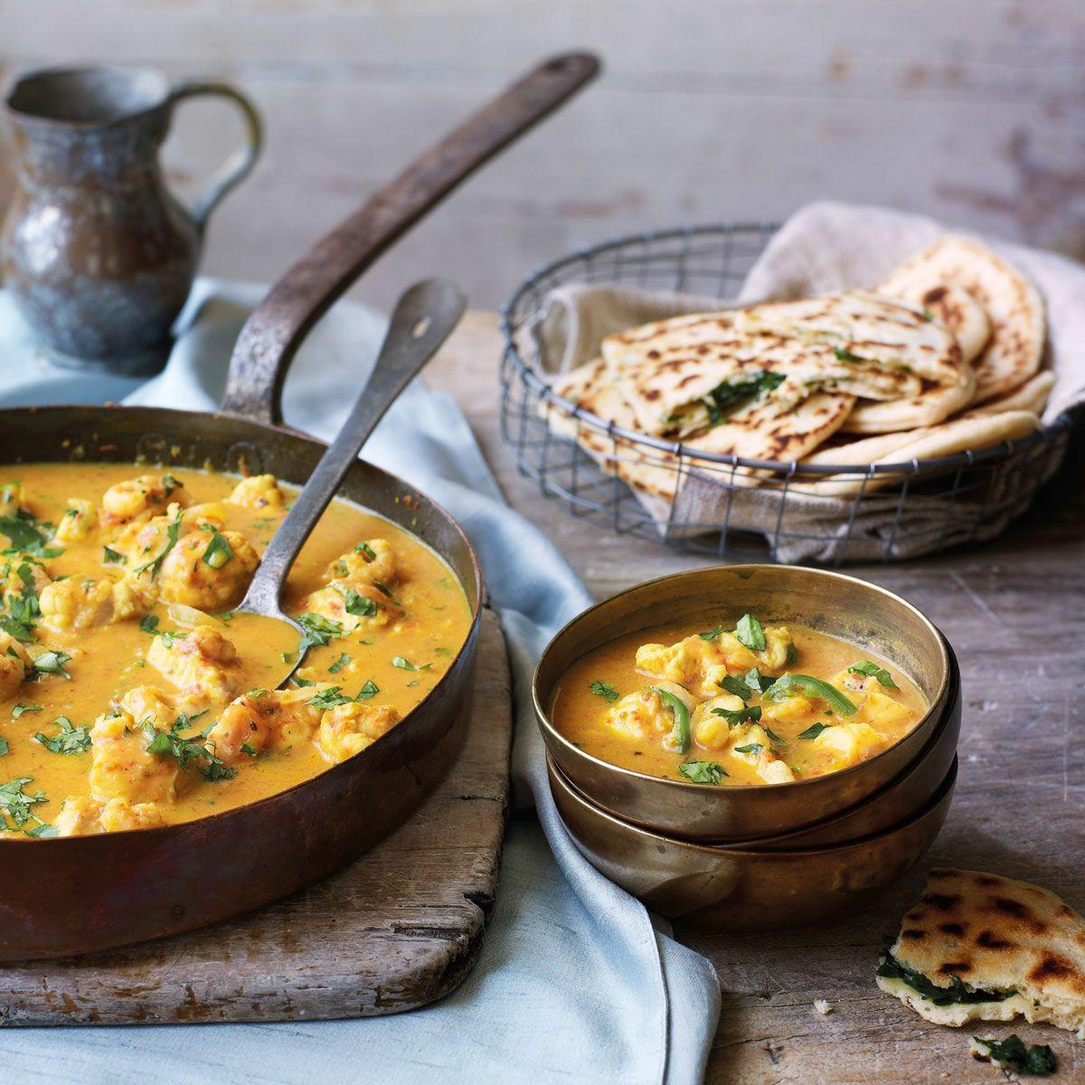FishCurry: (0, 459, 464, 825), (549, 612, 930, 789)
